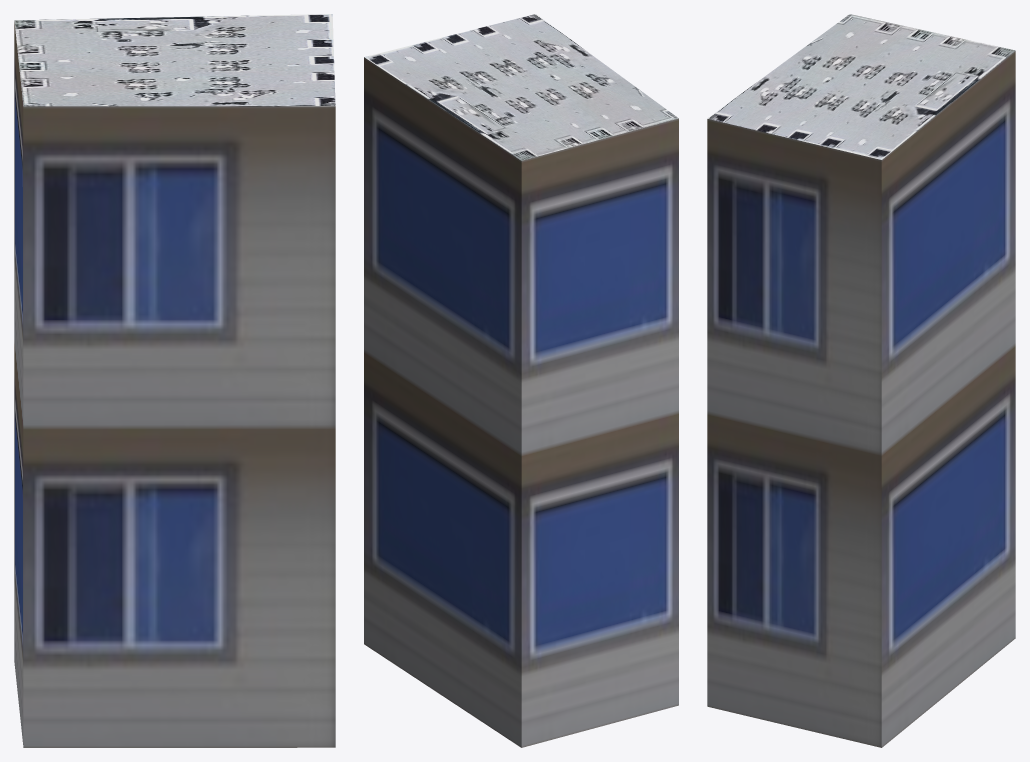
Rendered from ResTex__773.fbx.
3 renders of one model, left to right at view 1: azimuth 30°, elevation 25°; view 2: azimuth 150°, elevation 25°; view 3: azimuth 270°, elevation 25°, orthographic. The views are drawn at different scales.
Parts seen in each view (by area): view 1: CityEngineMaterial_23_m, CityEngineMaterial_4_m; view 2: CityEngineMaterial_23_m, CityEngineMaterial_4_m; view 3: CityEngineMaterial_23_m, CityEngineMaterial_4_m.
Boxes of the visible parts, x1,y1,x2,y2 form: CityEngineMaterial_23_m: (14,21,335,747); CityEngineMaterial_4_m: (14,14,335,106); CityEngineMaterial_23_m: (364,57,678,747); CityEngineMaterial_4_m: (364,14,678,160); CityEngineMaterial_23_m: (707,51,1015,747); CityEngineMaterial_4_m: (707,14,1015,159).
Size of the model in its own units: 3.2 by 6 by 2.85.
2 materials, 2 textured.
